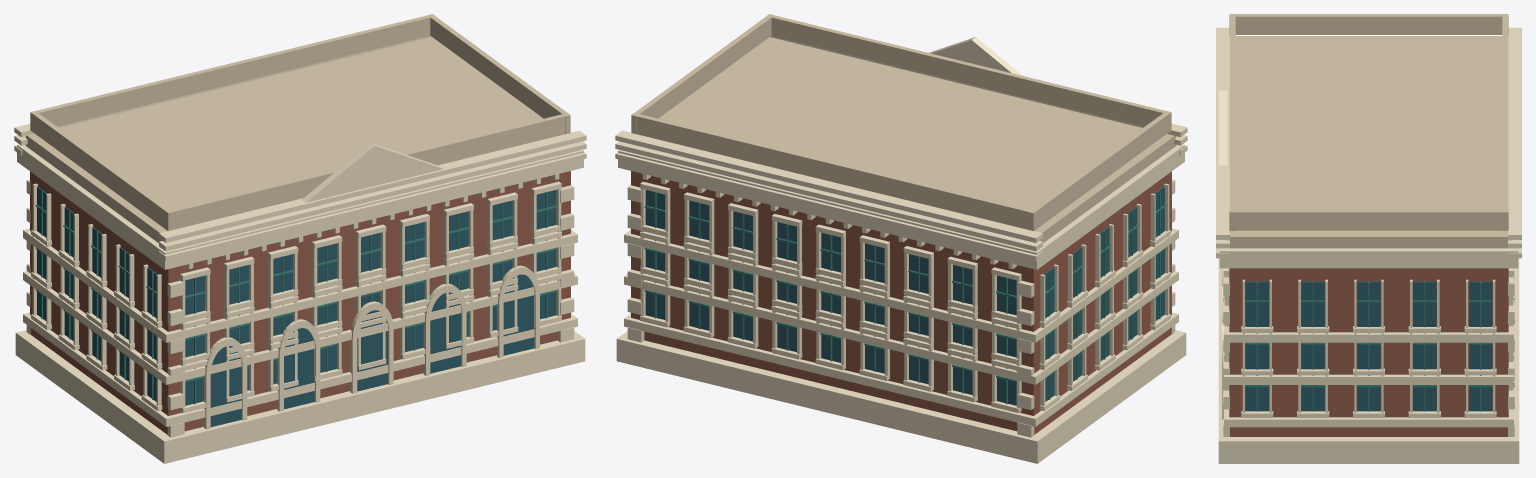
The model's file is china-merchants-steam.glb.
The picture shows the model from 3 angles, left to right: view 1: azimuth 30°, elevation 25°; view 2: azimuth 150°, elevation 25°; view 3: azimuth 270°, elevation 25°; orthographic projection.
Parts seen in each view (by area): view 1: china-merchants-steam; view 2: china-merchants-steam; view 3: china-merchants-steam.
Part boxes in pixels (left/top/right/bottom): china-merchants-steam: left=14, top=14, right=586, bottom=463; china-merchants-steam: left=615, top=14, right=1187, bottom=463; china-merchants-steam: left=1216, top=14, right=1521, bottom=463.
Bounding box in the file's own units: 28.06 × 17 × 17.49.
